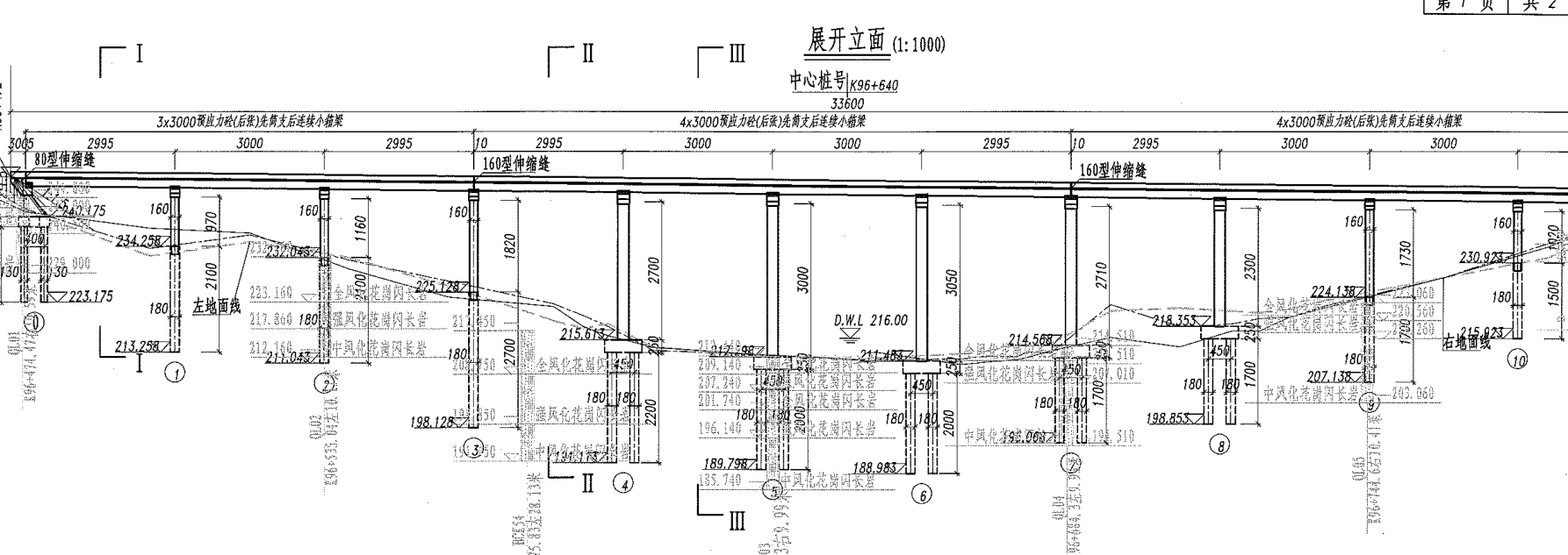A: (6, 96, 1568, 116)
B: (469, 111, 1082, 137), (1061, 110, 1568, 141), (21, 109, 481, 135)
C: (849, 192, 948, 514), (550, 189, 650, 499), (1143, 190, 1245, 462), (999, 192, 1095, 478), (702, 190, 789, 503), (407, 185, 494, 464), (1302, 191, 1387, 416), (257, 181, 342, 401), (111, 179, 194, 388), (1476, 196, 1534, 377)
D: (827, 311, 908, 345)
